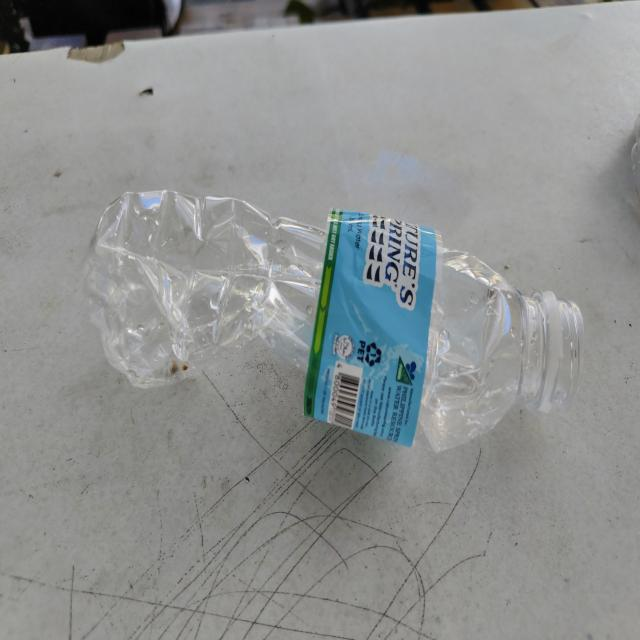Bottle: (86, 190, 584, 451)
